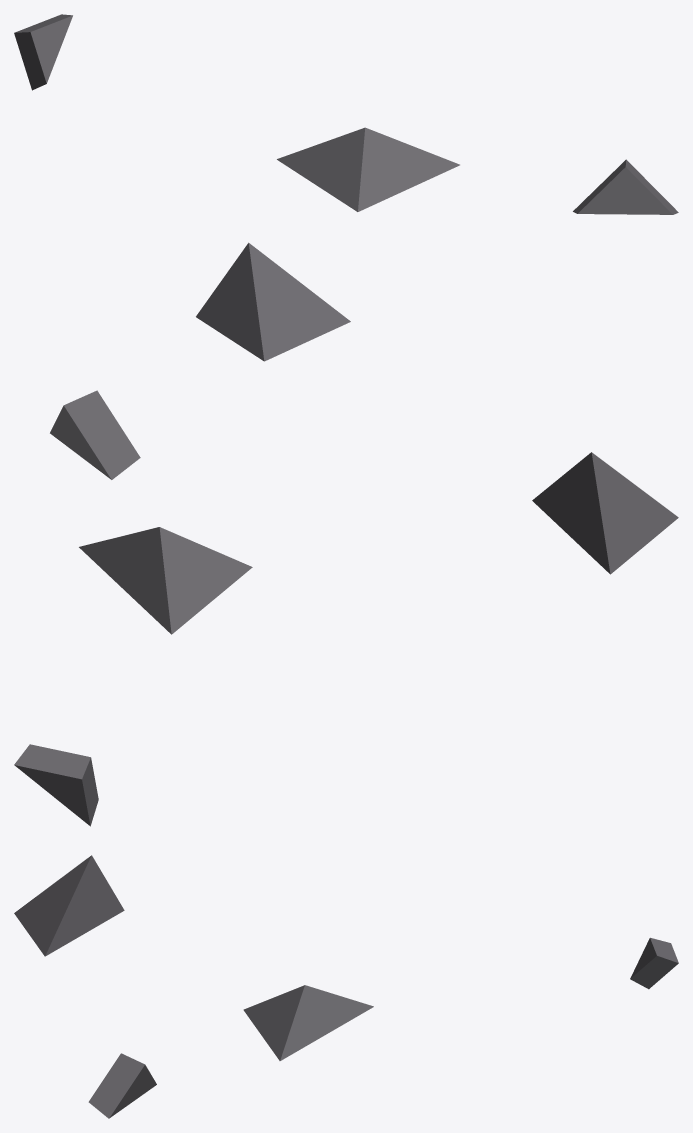
File: Rocks_Sharp_s_03.fbx
The picture shows the model from 3 angles, top to bottom: view 1: azimuth 30°, elevation 25°; view 2: azimuth 150°, elevation 25°; view 3: azimuth 270°, elevation 25°; orthographic projection. The views are drawn at different scales.
Parts seen in each view (by area): view 1: Rocks_Sharp_s_03; view 2: Rocks_Sharp_s_03; view 3: Rocks_Sharp_s_03.
Boxes of the visible parts, bbox=[...] form: Rocks_Sharp_s_03: bbox=[14, 14, 678, 361]; Rocks_Sharp_s_03: bbox=[14, 390, 678, 826]; Rocks_Sharp_s_03: bbox=[14, 855, 678, 1118].
Bounding box in the file's own units: 71.44 × 14.93 × 98.44.
